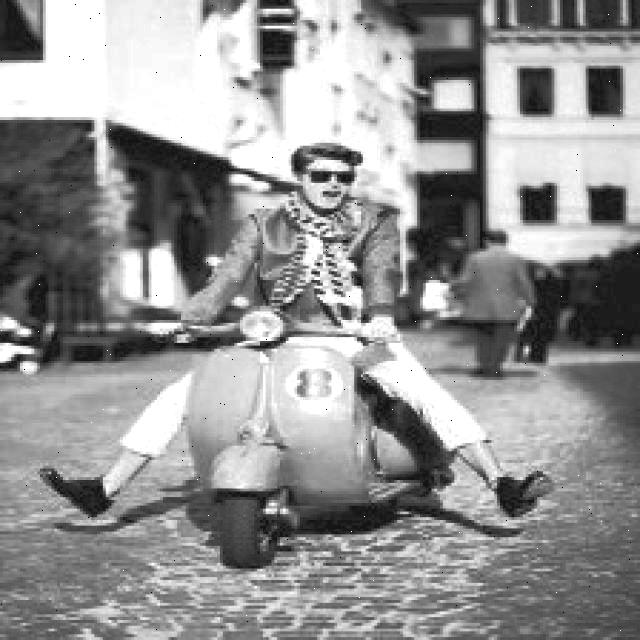Bike: (183, 312, 447, 566)
